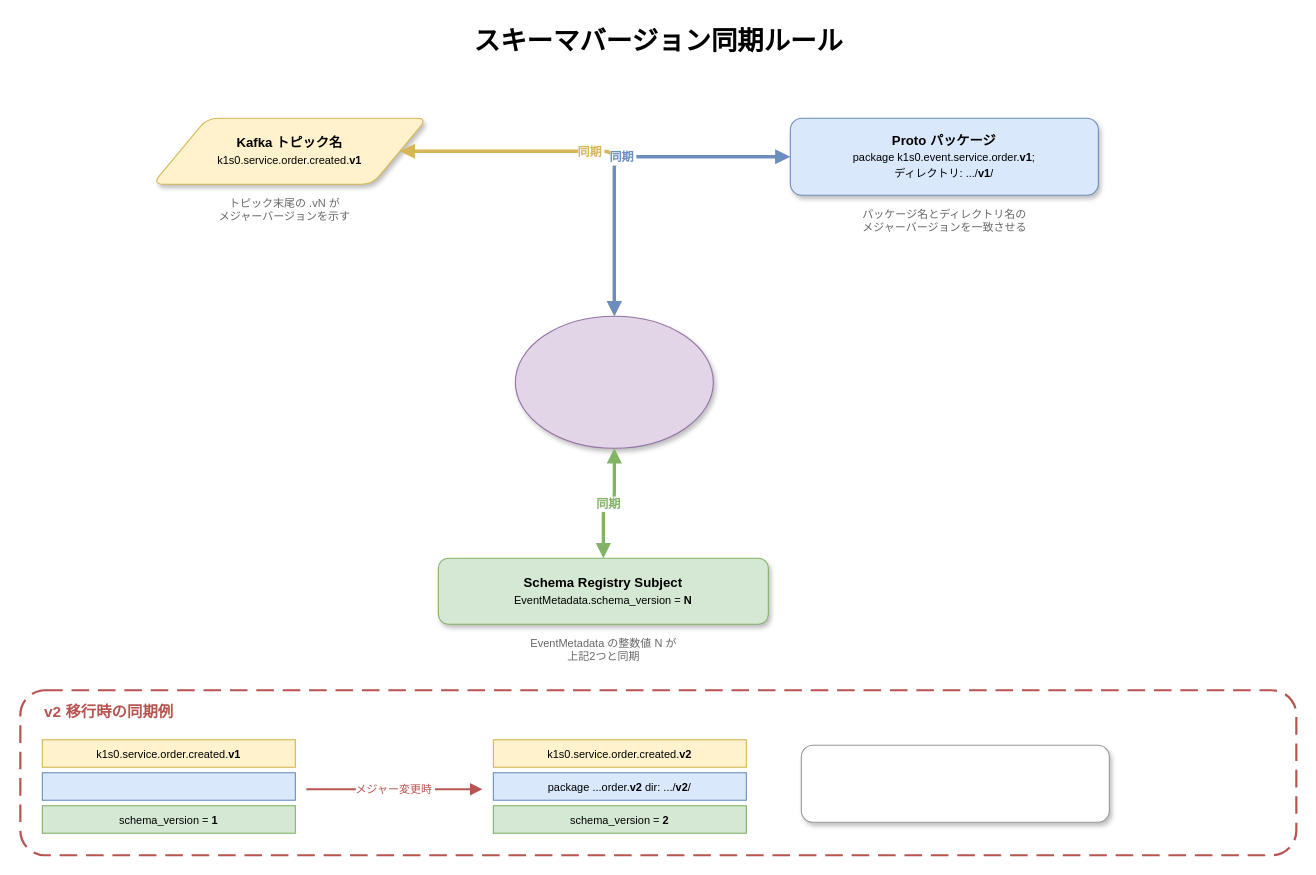
This 1316x875 diagram has some shape labels left out. Each missing label, with the centre of its shape:
package ...order. v1: pixel 168 786
vN スキーマメジャーバージョン: pixel 615 383
結果 : 3要素が分岐せず一貫した運用が可能 トピック名・Proto パッケージ・Schema Registry Subject が 常に同じ vN を参照する: pixel 956 785
